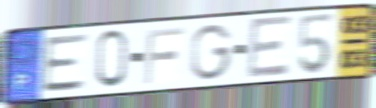0: (94, 28, 130, 92)
5: (297, 10, 336, 76)
E: (245, 14, 294, 82), (40, 31, 91, 95)
F: (142, 25, 187, 86)
G: (189, 22, 235, 82)
